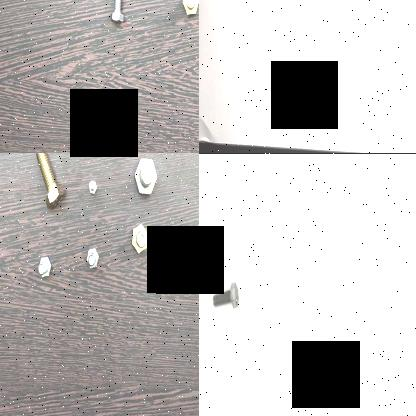Bolts: (30, 153, 66, 213), (208, 275, 244, 316), (132, 153, 158, 197), (126, 219, 152, 253), (34, 252, 51, 286), (82, 244, 102, 270), (107, 0, 124, 26), (180, 0, 199, 18), (84, 174, 98, 198)
